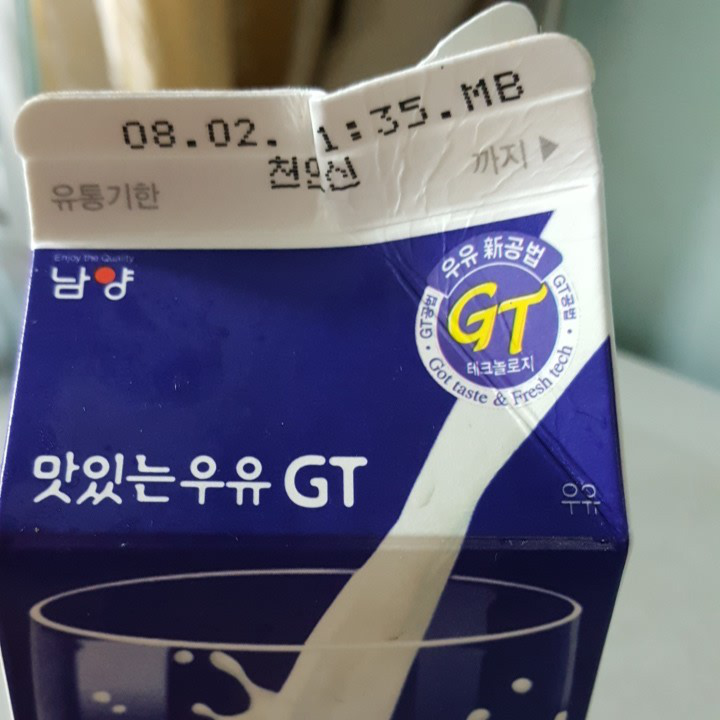milk: (1, 3, 630, 720)
